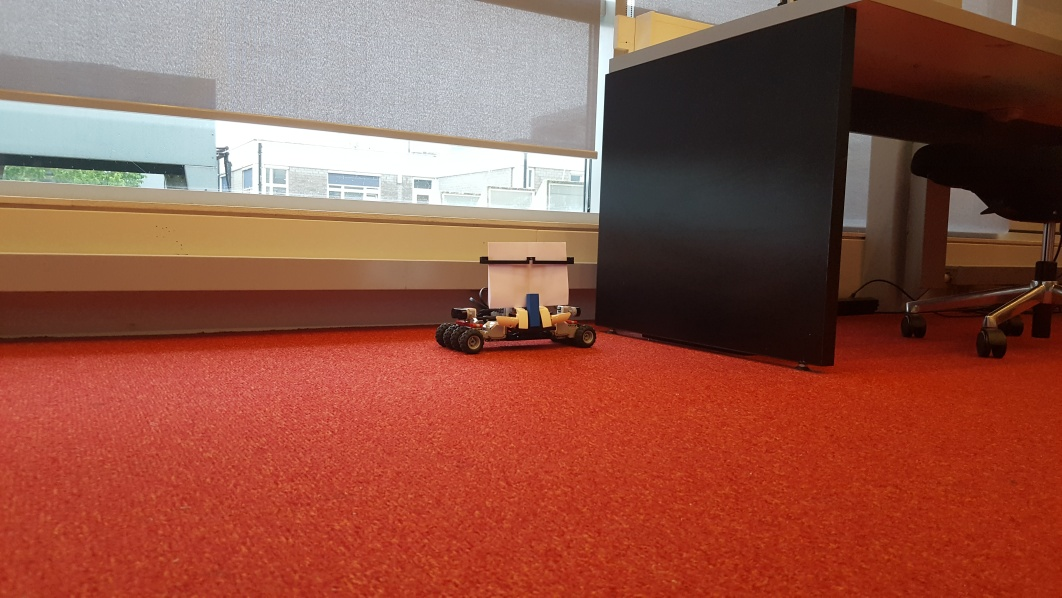car: (435, 235, 596, 359)
